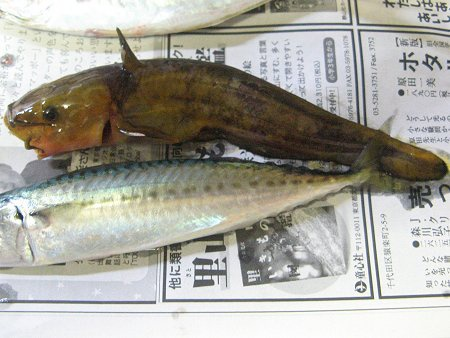gonzui: (10, 26, 447, 172)
